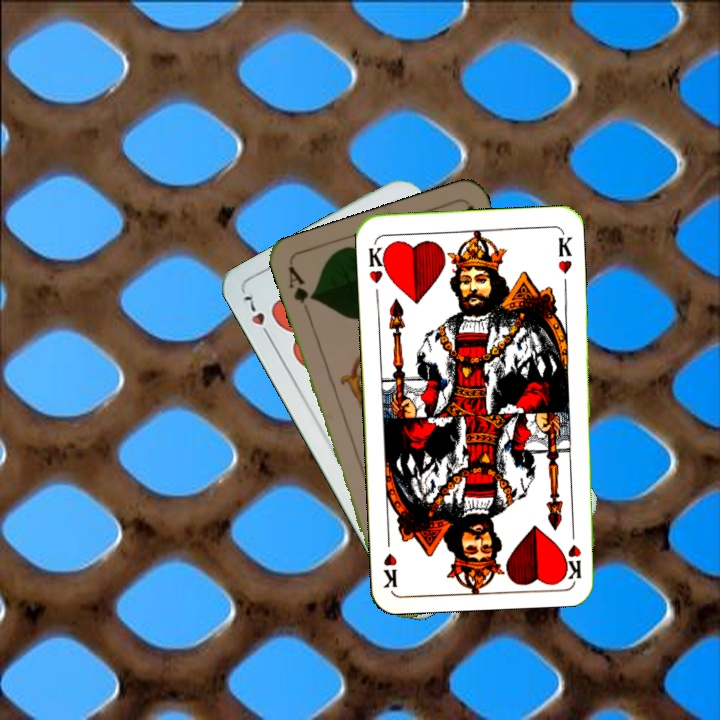GA: (284, 262, 317, 319)
H7: (239, 291, 275, 344)
HK: (563, 520, 584, 580), (365, 239, 391, 286)
